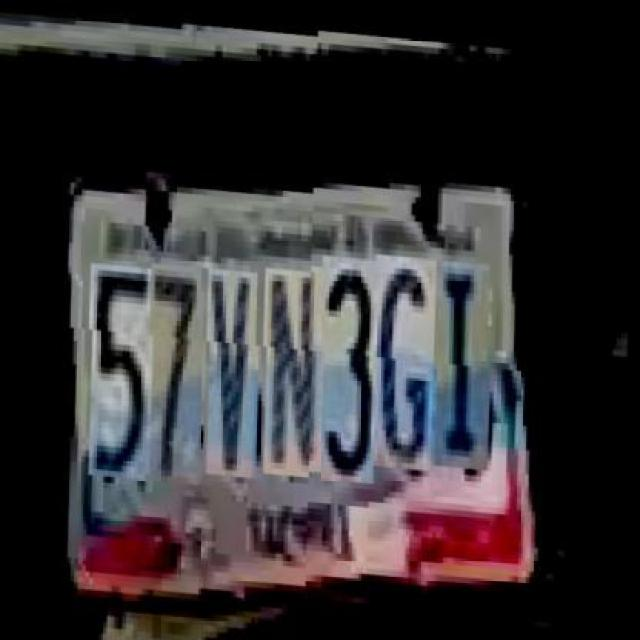3: (323, 255, 382, 482)
5: (92, 260, 156, 478)
7: (152, 259, 206, 481)
g: (377, 253, 441, 469)
i: (437, 258, 495, 467)
n: (266, 262, 328, 472)
v: (209, 264, 263, 473)
